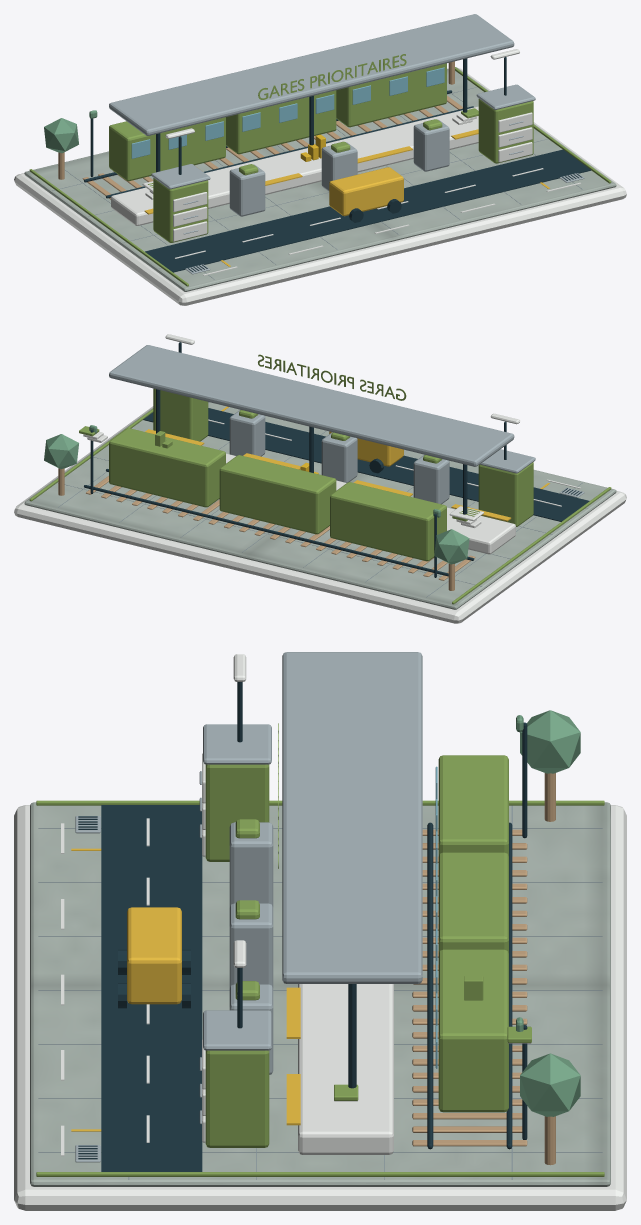
Rendered from gares.glb.
3 views of the same model, one above another, from view 1: azimuth 30°, elevation 25°; view 2: azimuth 150°, elevation 25°; view 3: azimuth 270°, elevation 25° (orthographic). The views are drawn at different scales.
Parts seen in each view (by area): view 1: Activity ground, StaticWorkshop_3, StaticWorkshop_0, StaticWorkshop_1, StaticWorkshop_4, Train carriage, Train carriage.002, Train carriage.001, Trolley body, StaticWorkshop_2, StaticWorkshop_7, StaticWorkshop_6 (+1 smaller); view 2: Activity ground, StaticWorkshop_3, StaticWorkshop_0, StaticWorkshop_1, StaticWorkshop_4, Train carriage.001, Train carriage, Train carriage.002, StaticWorkshop_2, StaticWorkshop_7, StaticWorkshop_6, Trolley body (+1 smaller); view 3: Activity ground, StaticWorkshop_3, StaticWorkshop_0, StaticWorkshop_1, StaticWorkshop_4, Train carriage.002, StaticWorkshop_2, Train carriage.001, Train carriage, StaticWorkshop_7, Trolley body, StaticWorkshop_5 (+1 smaller).
Boxes of the visible parts, x1,y1,x2,y2 form: Activity ground: (24,67,616,291); StaticWorkshop_3: (109,14,584,274); StaticWorkshop_0: (14,49,626,305); StaticWorkshop_1: (84,57,591,272); StaticWorkshop_4: (29,54,611,286); Train carriage: (109,117,225,181); Train carriage.002: (336,63,446,127); Train carriage.001: (226,90,336,154); Trolley body: (329,167,403,216); StaticWorkshop_2: (58,61,462,199); StaticWorkshop_7: (44,118,78,153); StaticWorkshop_6: (144,129,549,266); Activity ground: (24,402,616,609); StaticWorkshop_3: (109,345,584,504); StaticWorkshop_0: (14,334,626,623); StaticWorkshop_1: (84,342,589,577); StaticWorkshop_4: (29,354,611,604); Train carriage.001: (219,455,336,534); Train carriage: (330,482,446,561); Train carriage.002: (109,428,225,507); StaticWorkshop_2: (58,468,475,590); StaticWorkshop_7: (44,434,469,564); StaticWorkshop_6: (145,406,549,521); Trolley body: (329,431,403,466); Activity ground: (30,802,610,1186); StaticWorkshop_3: (75,652,422,1162); StaticWorkshop_0: (14,654,626,1210); StaticWorkshop_1: (78,682,527,1171); StaticWorkshop_4: (36,723,604,1176); Train carriage.002: (438,949,508,1112); StaticWorkshop_2: (412,773,555,1165); Train carriage.001: (438,852,508,953); Train carriage: (438,755,508,856); StaticWorkshop_7: (520,710,580,1116); Trolley body: (127,907,181,1004); StaticWorkshop_5: (38,805,602,1179).
Size of the model in its own units: 7.3 by 2.02 by 4.8.
16 materials, 1 textured.
